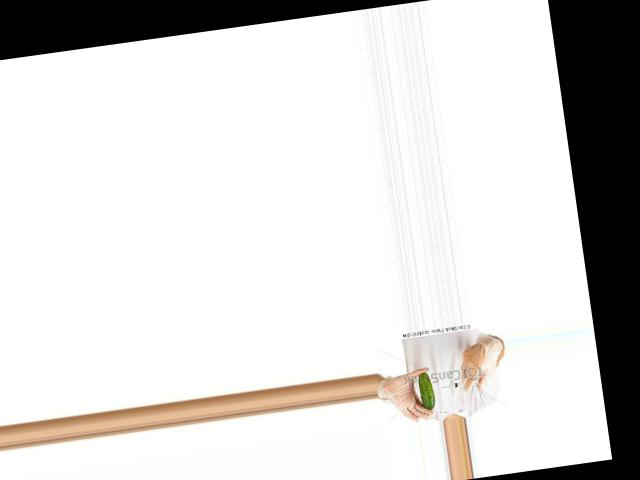cucumber: (416, 371, 435, 411)
